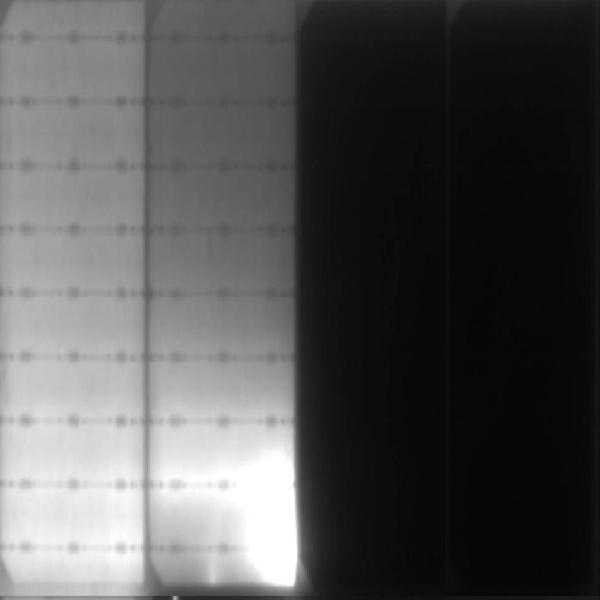hot_spot: (252, 453, 297, 587), (221, 456, 249, 485), (219, 488, 250, 511)
no_electricity: (450, 1, 600, 599), (296, 1, 445, 594)
